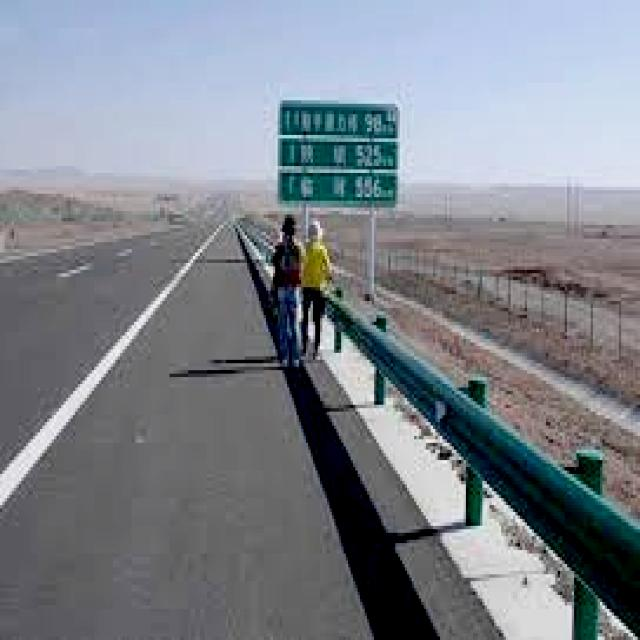Guard rail: (328, 299, 640, 635)
